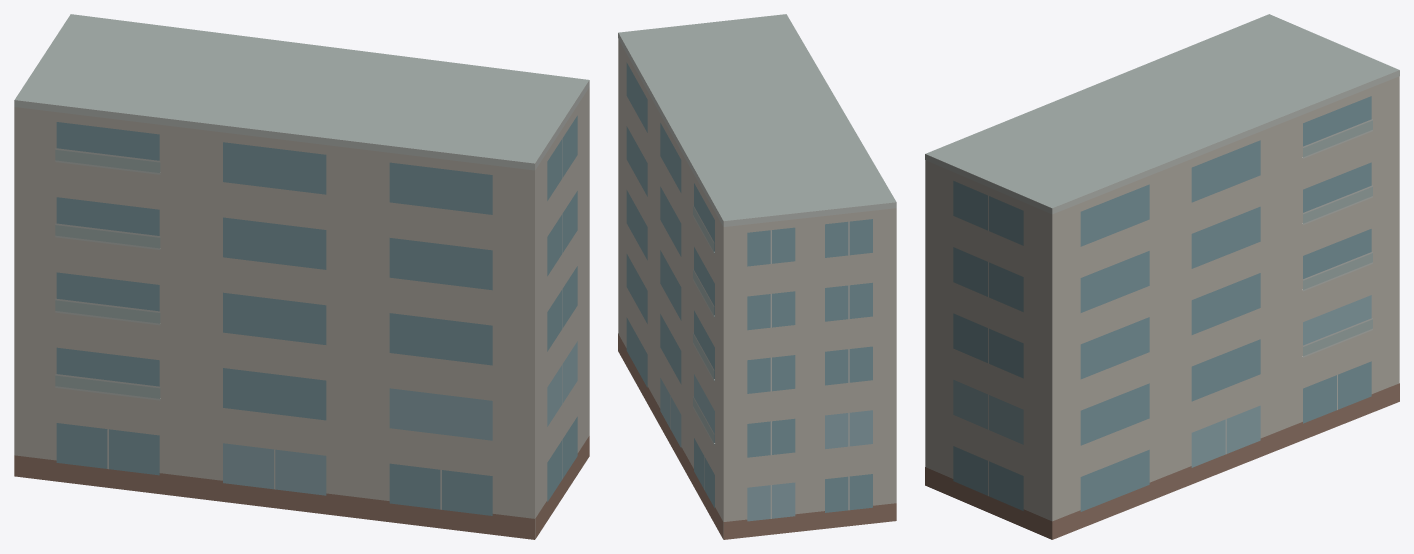
File: survey-upis-32892714.glb
3 renders of one model, left to right at view 1: azimuth 30°, elevation 25°; view 2: azimuth 150°, elevation 25°; view 3: azimuth 270°, elevation 25°, orthographic. The views are drawn at different scales.
Visible parts, largest first — view 1: survey-upis-32892714.tmp; view 2: survey-upis-32892714.tmp; view 3: survey-upis-32892714.tmp.
Part boxes in pixels (left/top/right/bottom): survey-upis-32892714.tmp: left=14, top=14, right=589, bottom=539; survey-upis-32892714.tmp: left=618, top=14, right=896, bottom=539; survey-upis-32892714.tmp: left=925, top=14, right=1399, bottom=539.
Bounding box in the file's own units: 16.6 × 13.2 × 17.13.
